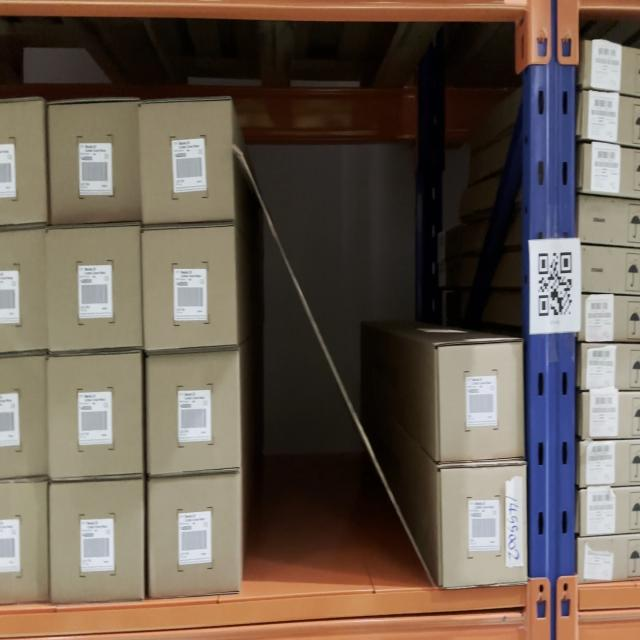box: (49, 354, 140, 477), (144, 100, 231, 227), (48, 230, 142, 346), (51, 101, 139, 222), (144, 232, 234, 348), (51, 485, 143, 598), (149, 354, 239, 468), (149, 482, 239, 592), (439, 471, 526, 580), (437, 352, 525, 456)
